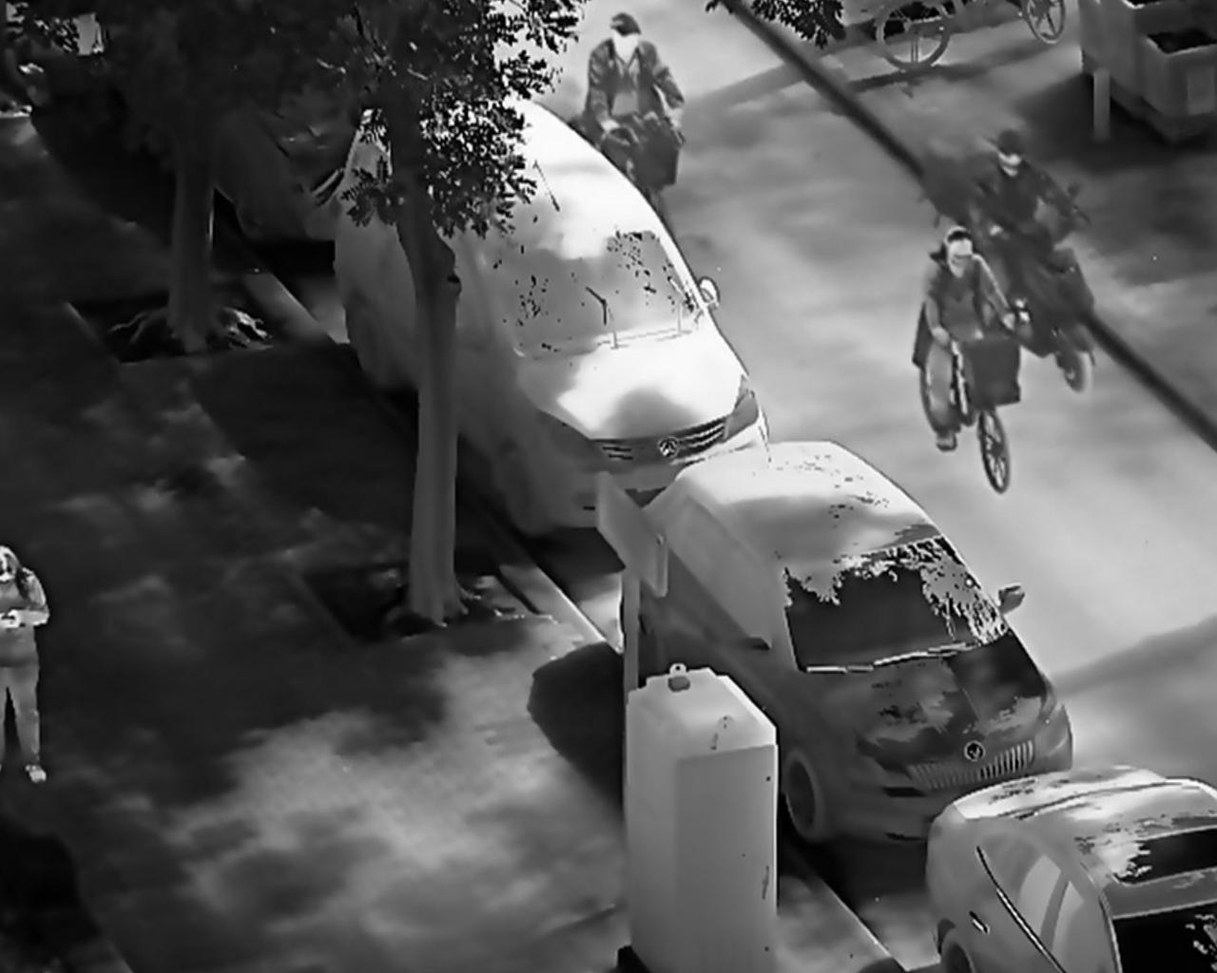person: (971, 124, 1094, 323), (915, 223, 1016, 457), (585, 10, 691, 170), (2, 545, 56, 787)
